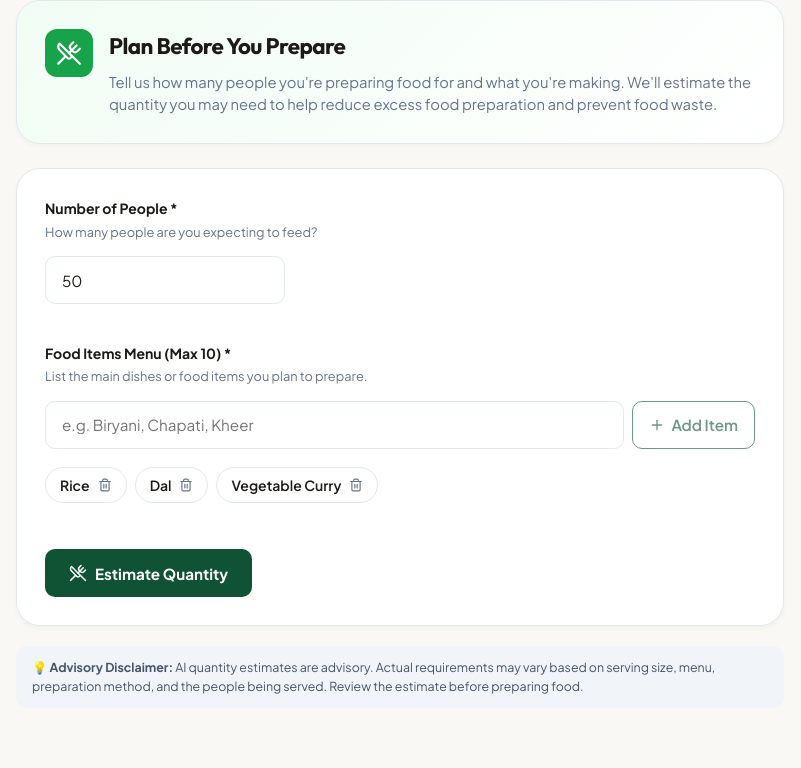
FoodQuantityPlanner Component › 15. Error fallback shows friendly non-blocking error message
Click the button "Estimate Quantity" at (149, 573), box [45,549,252,597]
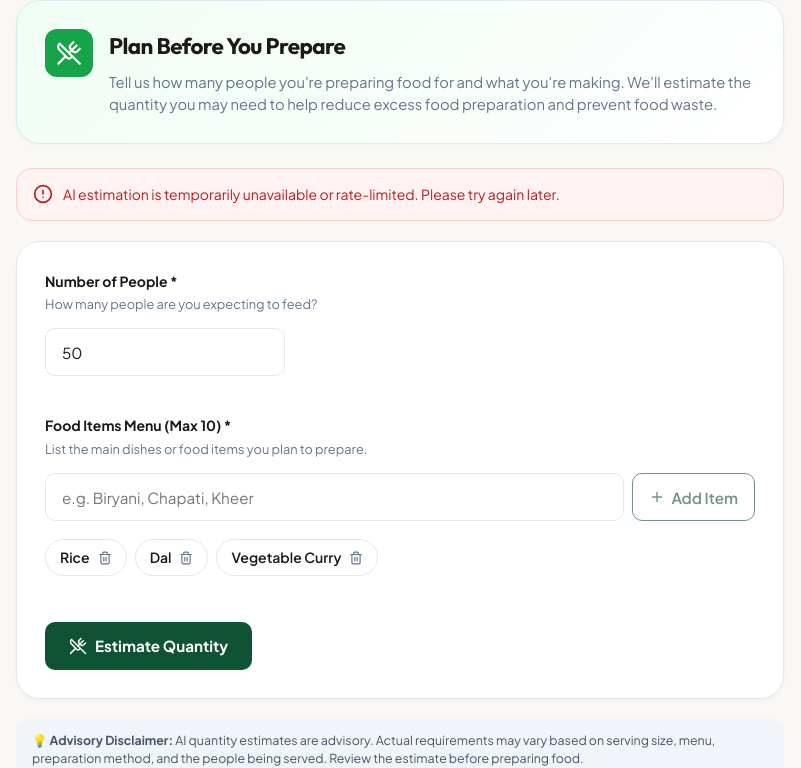
Check: the text "AI estimation is temporarily unavailable or rate-limited" is shown, box [63,185,560,203]
